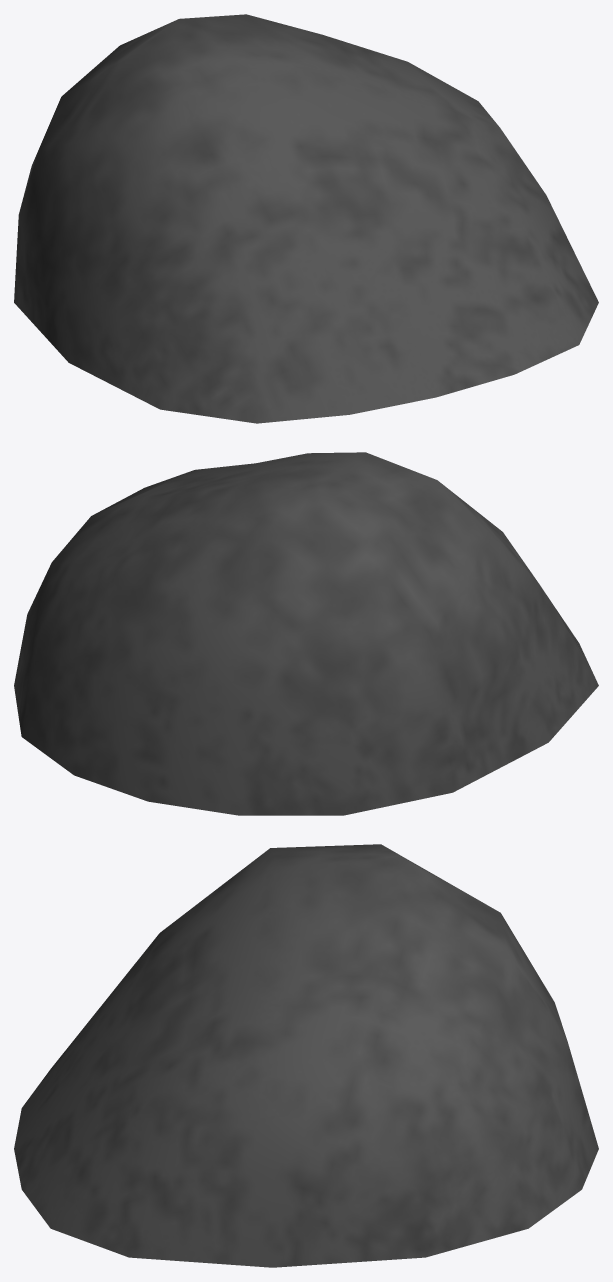
Rendered from Rock_2.fbx.
3 views of the same model, one above another, from view 1: azimuth 30°, elevation 25°; view 2: azimuth 150°, elevation 25°; view 3: azimuth 270°, elevation 25° (orthographic).
Visible parts, largest first — view 1: Rock_2; view 2: Rock_2; view 3: Rock_2.
Boxes of the visible parts, box(x1,y1,x2,y2) form: Rock_2: box(14, 14, 598, 423); Rock_2: box(14, 452, 598, 815); Rock_2: box(14, 844, 598, 1267).
Size of the model in its own units: 97 by 49.19 by 101.
Materials: 1 (1 with a texture image).
